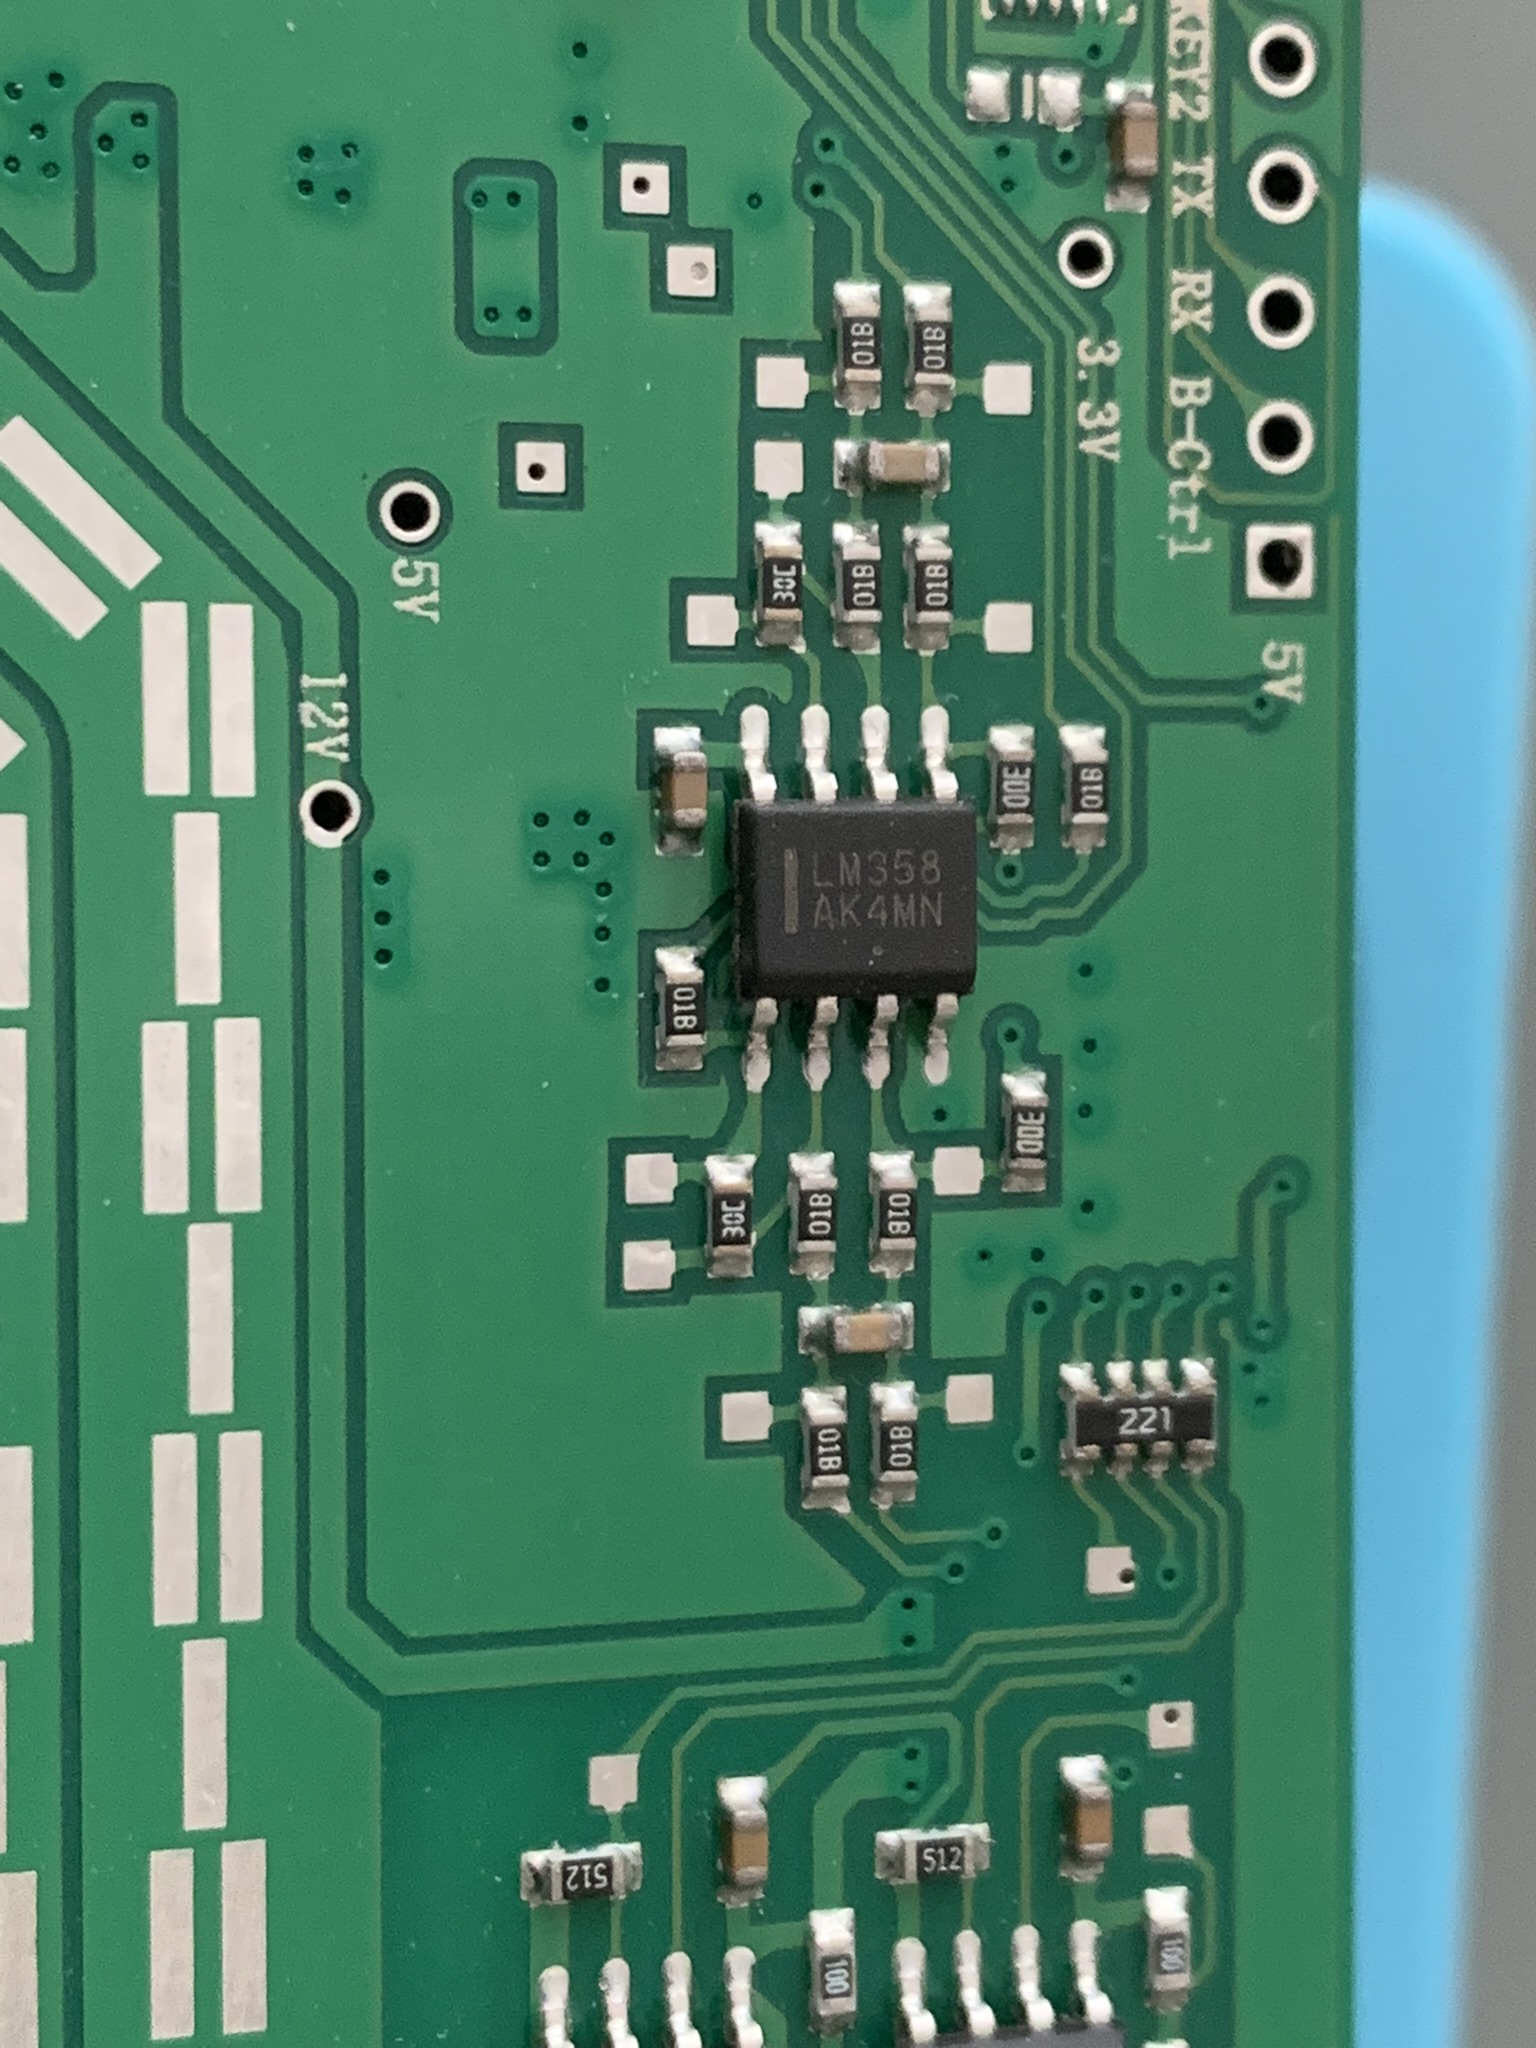capacitor_smd_mlc: (1112, 98, 1163, 190), (666, 747, 712, 839), (860, 440, 945, 485), (726, 1809, 771, 1890), (824, 1311, 907, 1355), (1071, 1782, 1113, 1866)
ic_smd: (733, 763, 983, 1039)
resistor_smd: (1068, 1379, 1226, 1461), (837, 290, 884, 398), (545, 1848, 628, 1904), (758, 535, 807, 631), (992, 740, 1037, 842), (662, 959, 705, 1059), (910, 303, 955, 397), (837, 540, 883, 632), (912, 543, 957, 634), (794, 1172, 841, 1256), (1068, 743, 1110, 835), (1149, 1914, 1196, 1996), (874, 1174, 920, 1256), (712, 1177, 755, 1261), (813, 1935, 857, 2019), (808, 1409, 850, 1492), (1007, 1097, 1050, 1174), (876, 1406, 920, 1484), (907, 1832, 978, 1879)
